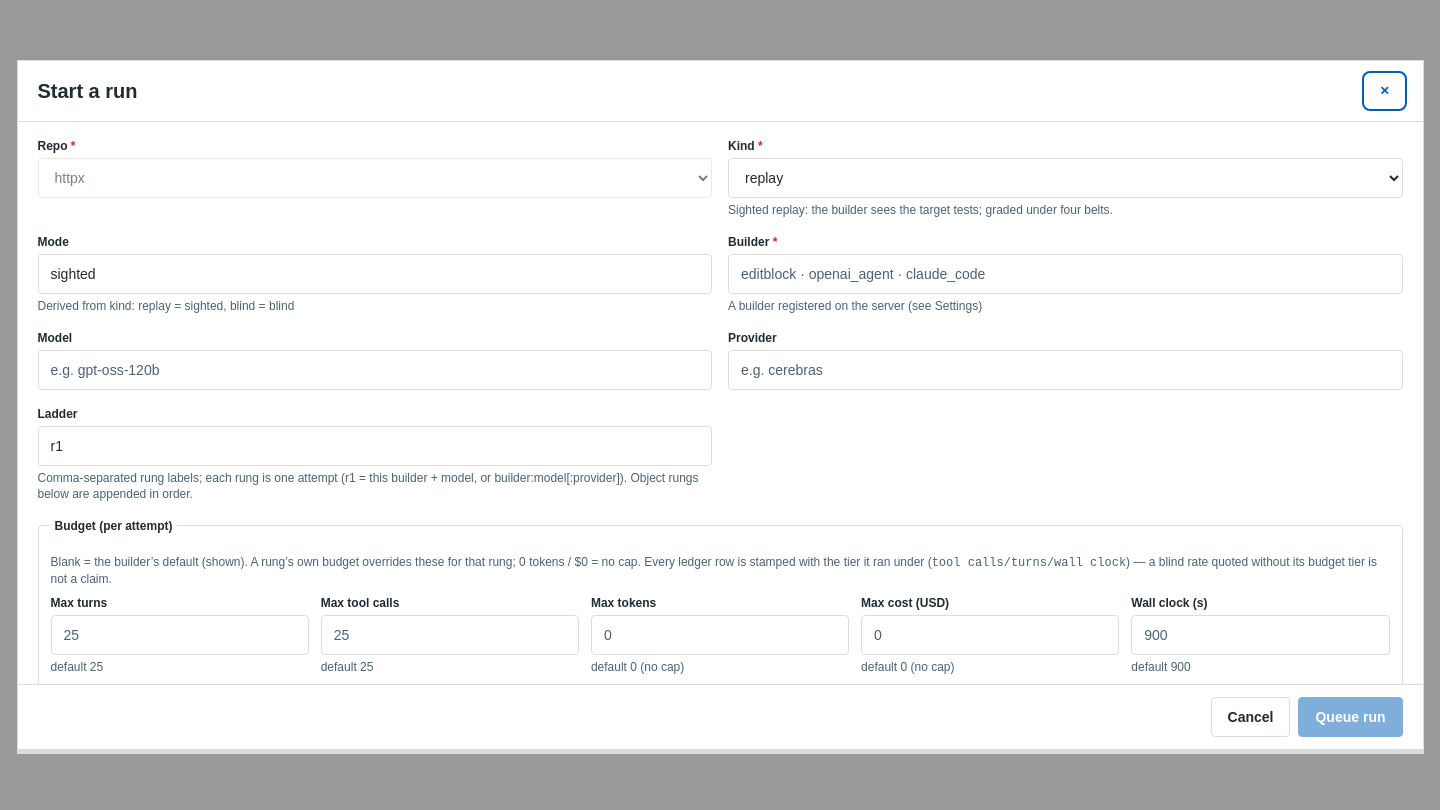
Test: RunNewDialog › a submit refused for a rung naming another provider shows the refusal and its fix, and nothing is created
This screenshot has width=1440, height=810.
Type "openai_agent" into the field with placeholder "editblock · openai_agent · claude_code" at (1065, 274), box [728,254,1402,294]
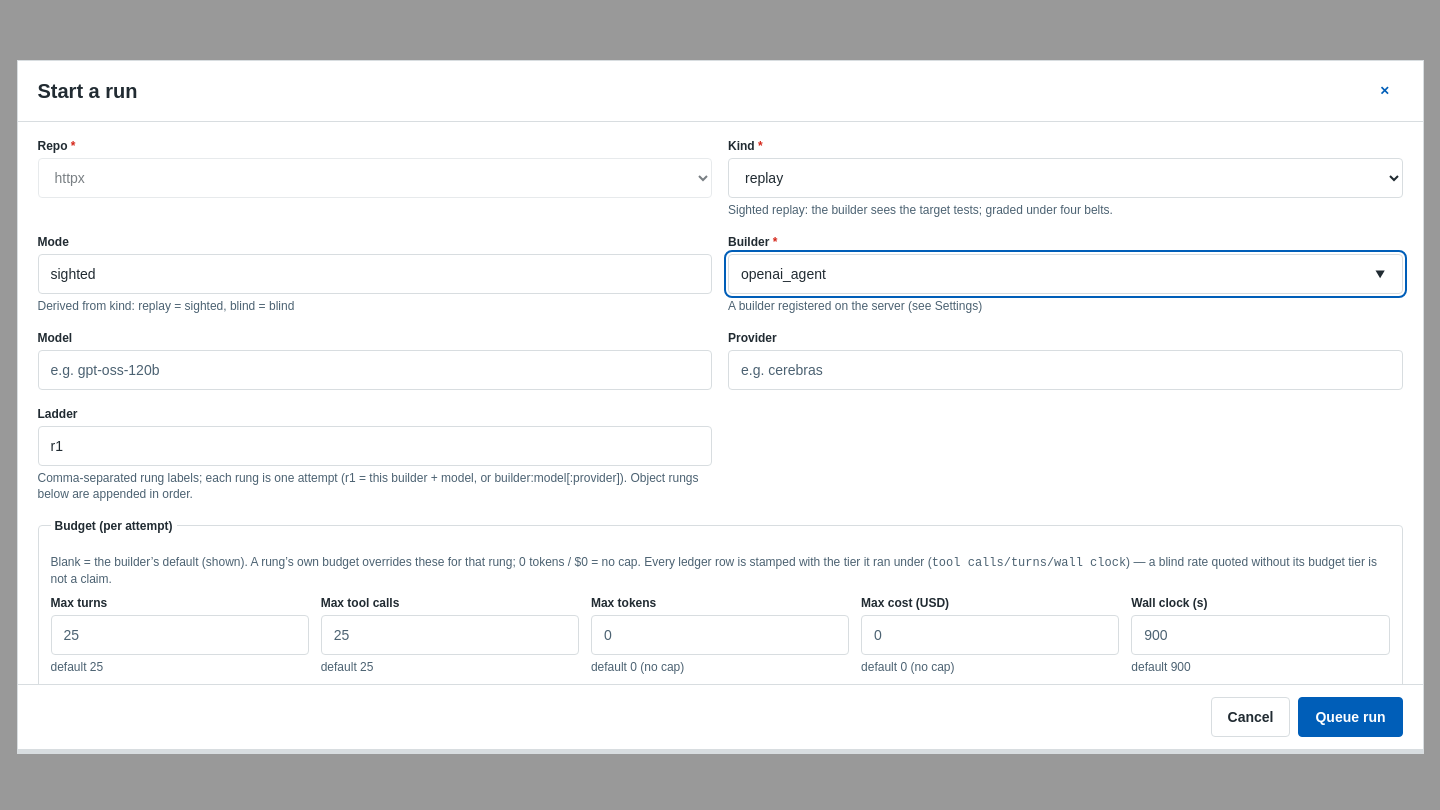
Click the button "Queue run" at (1350, 717), box [1298,697,1402,737]
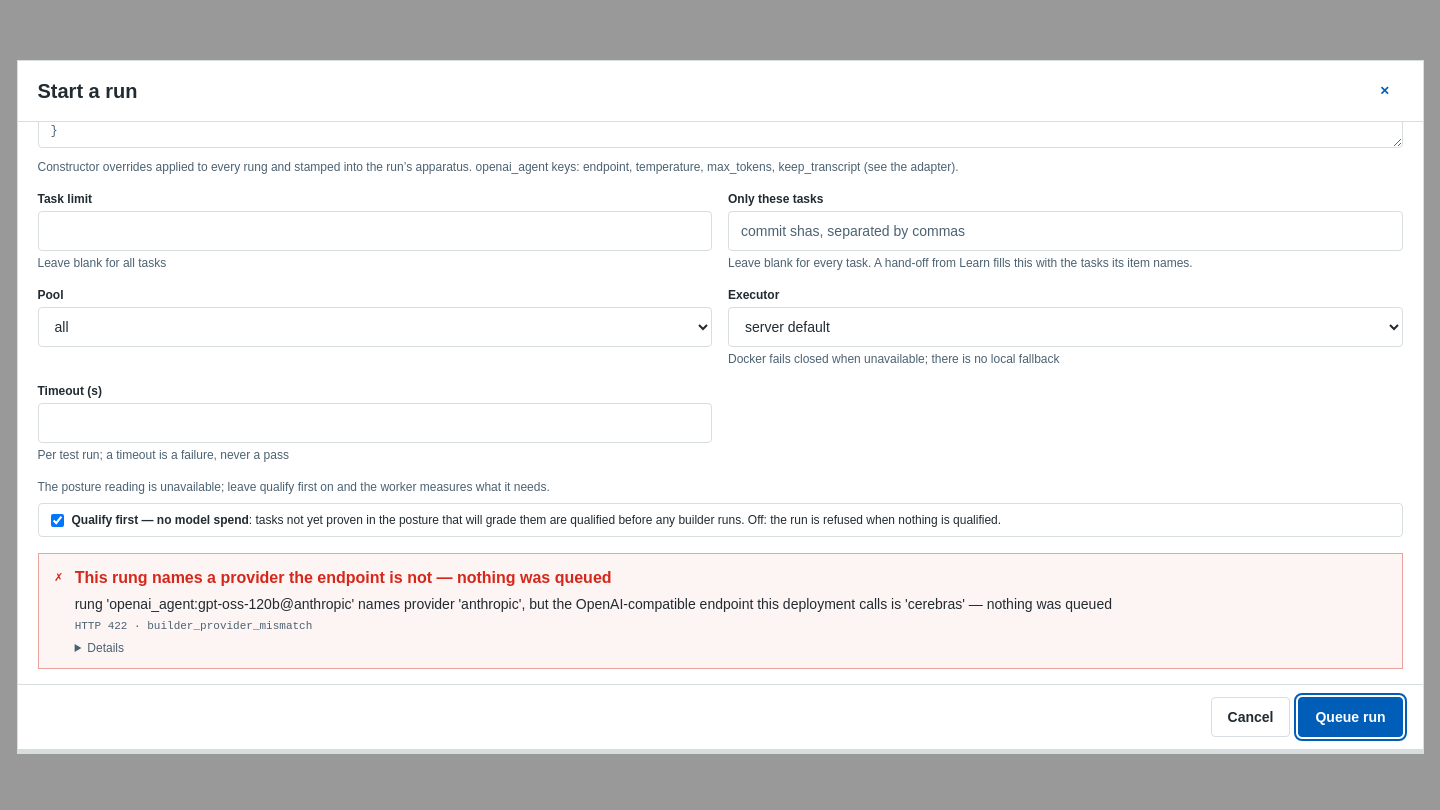
expect the text "This rung names a provider the endpoint is not — nothing was queued" is shown: met, box [75,569,612,586]
expect the text "endpoint this deployment calls is 'cerebras'" is shown: met, box [75,596,1112,612]
